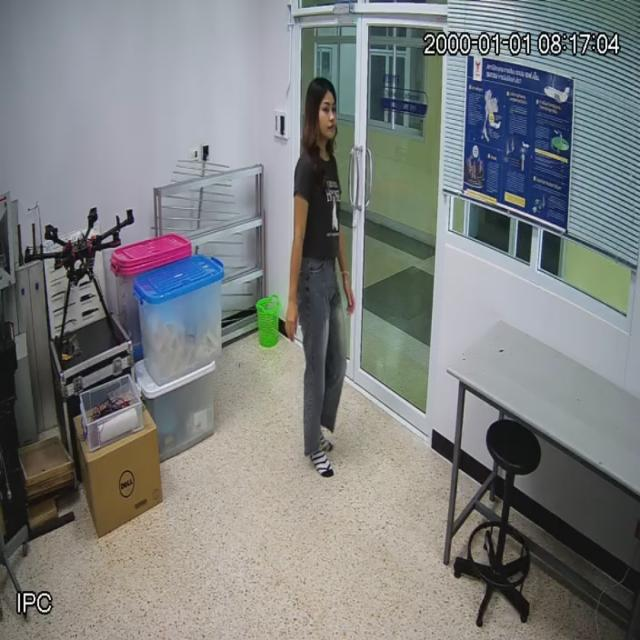normal: (282, 68, 359, 487)
